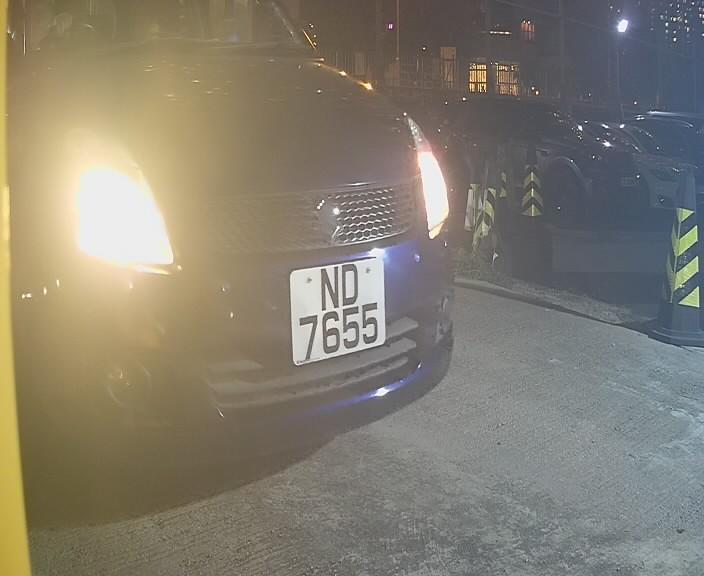privatecar: (23, 8, 469, 469)
